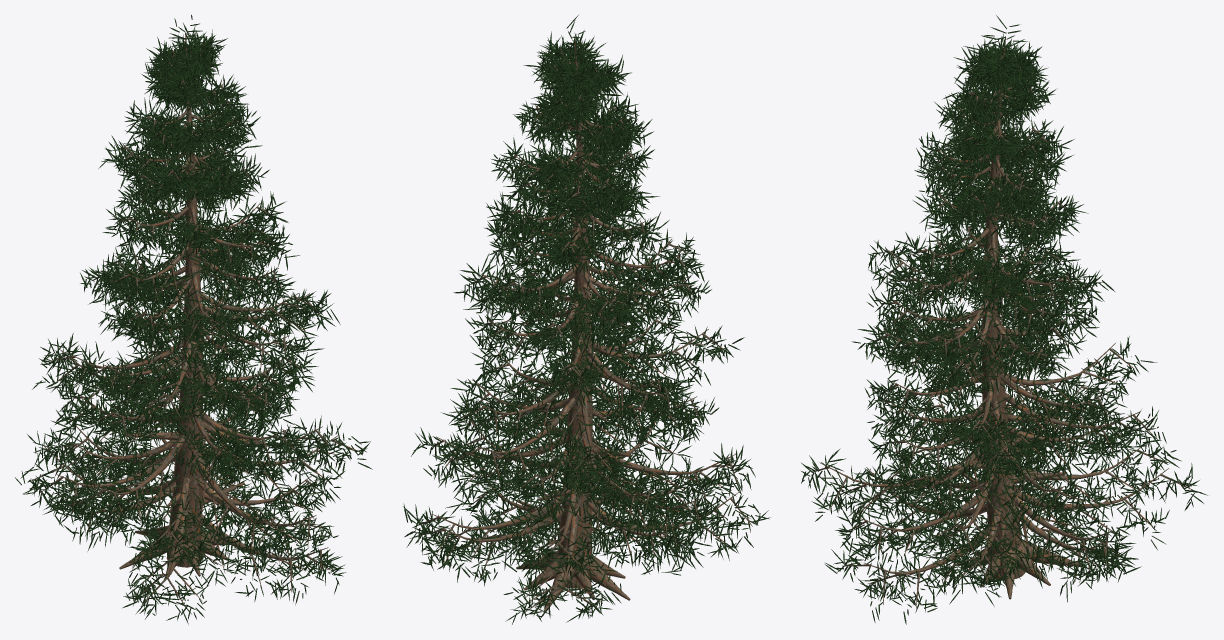
File: spruce_young_lod1.gltf
3 renders of one model, left to right at view 1: azimuth 30°, elevation 25°; view 2: azimuth 150°, elevation 25°; view 3: azimuth 270°, elevation 25°, orthographic. The views are drawn at different scales.
Parts seen in each view (by area): view 1: spruce_young_lod1; view 2: spruce_young_lod1; view 3: spruce_young_lod1.
Boxes of the visible parts, x1,y1,x2,y2 form: spruce_young_lod1: (15, 14, 372, 624); spruce_young_lod1: (403, 15, 770, 624); spruce_young_lod1: (801, 15, 1207, 624).
Size of the model in its own units: 2.49 by 4.46 by 2.91.
Materials: 2 (2 with a texture image).
